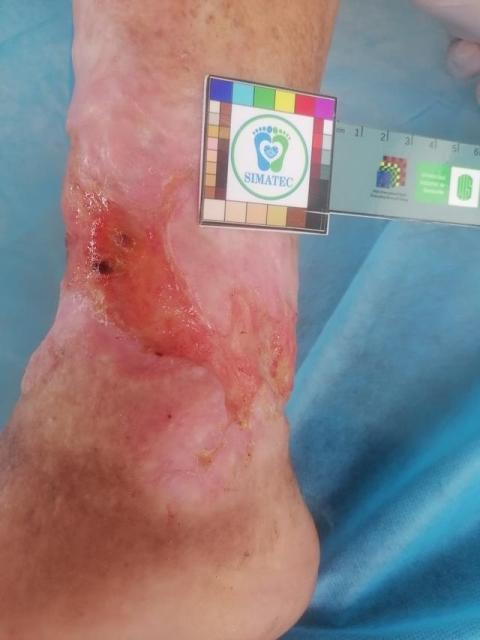wound: (60, 170, 296, 425)
